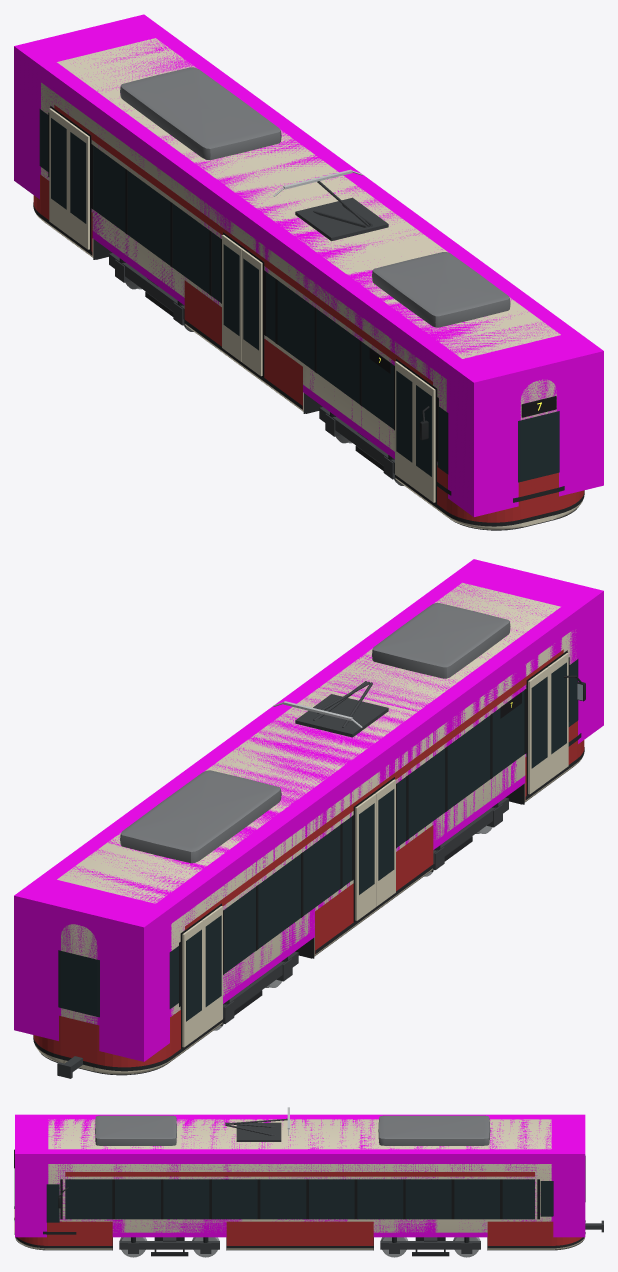
File: PT_Tram_City.fbx
3 renders of one model, top to bottom at view 1: azimuth 30°, elevation 25°; view 2: azimuth 150°, elevation 25°; view 3: azimuth 270°, elevation 25°, orthographic. The views are drawn at different scales.
Parts seen in each view (by area): view 1: COL_Body, Body, Glass_Side, Roof_Equipment, Livery_Skirt, Glass_Windscreen, Livery_Roofline, Pantograph_Base, Pillar_R, Skirt_Edge, Door_1_B_Glass, Door_2_B_Glass (+12 smaller); view 2: COL_Body, Body, Glass_Side, Roof_Equipment, Livery_Skirt, Glass_Rear, Livery_Roofline, Pantograph_Base, Pillar_R, Skirt_Edge, Door_1_B_Glass, Door_2_A_Glass (+12 smaller); view 3: COL_Body, Body, Glass_Side, Livery_Skirt, Roof_Equipment, Livery_Roofline, Pillar_L, Skirt_Edge, Bogie_F_Frame, Bogie_R_Frame, Pantograph_Base, Glass_Windscreen (+5 smaller).
Boxes of the visible parts, x1,y1,x2,y2 form: COL_Body: (14,14,603,516); Body: (35,38,582,529); Glass_Side: (93,145,393,429); Roof_Equipment: (120,67,510,327); Livery_Skirt: (33,174,584,522); Glass_Windscreen: (437,407,559,482); Livery_Roofline: (54,105,432,385); Pantograph_Base: (295,197,388,241); Pillar_R: (48,112,438,462); Skirt_Edge: (33,202,584,526); Door_1_B_Glass: (396,370,412,462); Door_2_B_Glass: (223,244,239,335); COL_Body: (14,559,603,1061); Body: (35,582,582,1074); Glass_Side: (224,690,524,973); Roof_Equipment: (120,603,510,863); Livery_Skirt: (33,721,584,1067); Glass_Rear: (58,946,178,1017); Livery_Roofline: (185,649,563,929); Pantograph_Base: (295,694,388,737); Pillar_R: (179,657,569,1006); Skirt_Edge: (33,747,584,1071); Door_1_B_Glass: (531,676,547,768); Door_2_A_Glass: (378,789,394,880); COL_Body: (15,1114,585,1237); Body: (15,1119,584,1249); Glass_Side: (65,1179,534,1219); Livery_Skirt: (14,1209,582,1245); Roof_Equipment: (95,1115,490,1145); Livery_Roofline: (65,1172,534,1176); Pillar_L: (60,1179,539,1219); Skirt_Edge: (14,1220,585,1248); Bogie_F_Frame: (119,1237,219,1249); Bogie_R_Frame: (380,1237,480,1249); Pantograph_Base: (236,1122,281,1141); Glass_Windscreen: (14,1168,59,1222).
Bounding box in the file's own units: 3.16 × 3.77 × 15.82.
